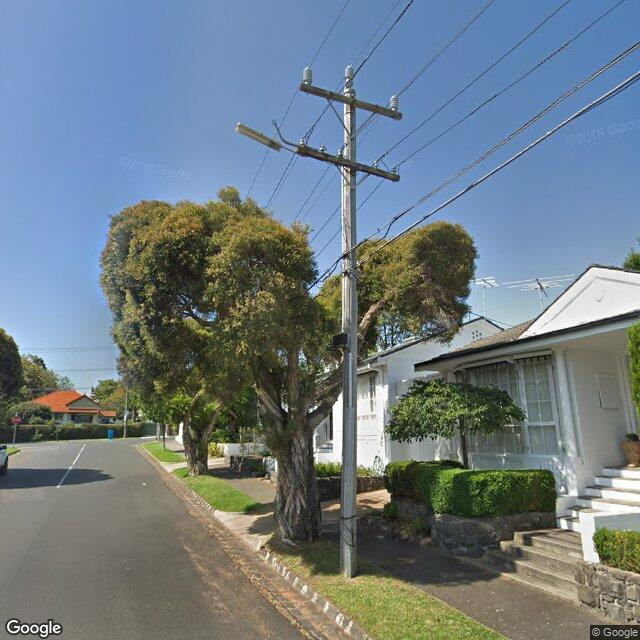HV-transmission: (301, 64, 403, 122)
crossarm: (298, 138, 400, 182), (300, 83, 402, 121)
streetlight: (236, 124, 298, 154)
timber-pole: (339, 87, 356, 578)
